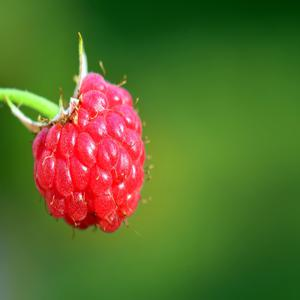raspb: (38, 73, 155, 237)
